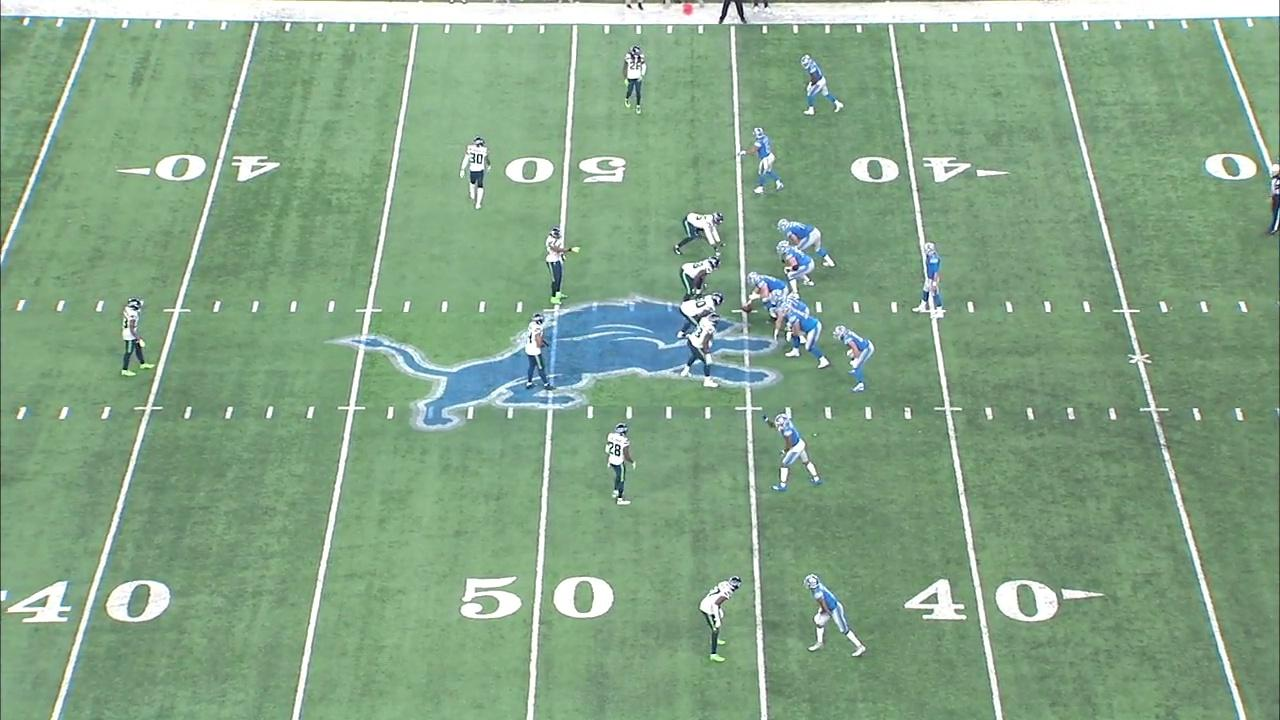defense: (689, 571, 745, 669), (110, 284, 162, 384), (516, 311, 561, 393), (543, 222, 582, 309), (682, 311, 723, 392), (599, 421, 634, 513), (459, 133, 496, 219), (617, 36, 656, 113), (673, 209, 727, 258), (676, 292, 723, 340), (679, 253, 723, 296)
oline: (776, 303, 828, 366), (777, 217, 836, 272), (774, 239, 818, 295), (739, 271, 792, 314), (768, 288, 809, 341)
qb: (910, 237, 948, 321)
ref: (1267, 164, 1280, 239)
skill: (754, 408, 827, 498), (802, 571, 870, 666), (797, 48, 846, 123), (833, 321, 882, 392), (743, 128, 786, 200)
